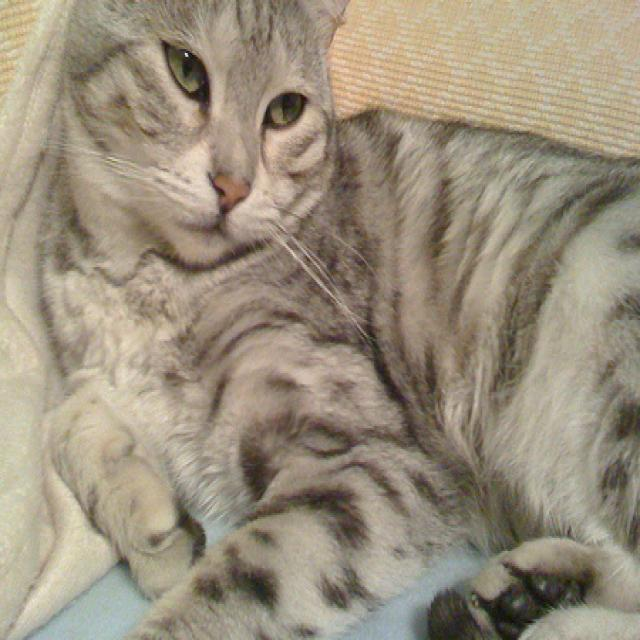Egyptian Mau: (41, 0, 640, 640)
